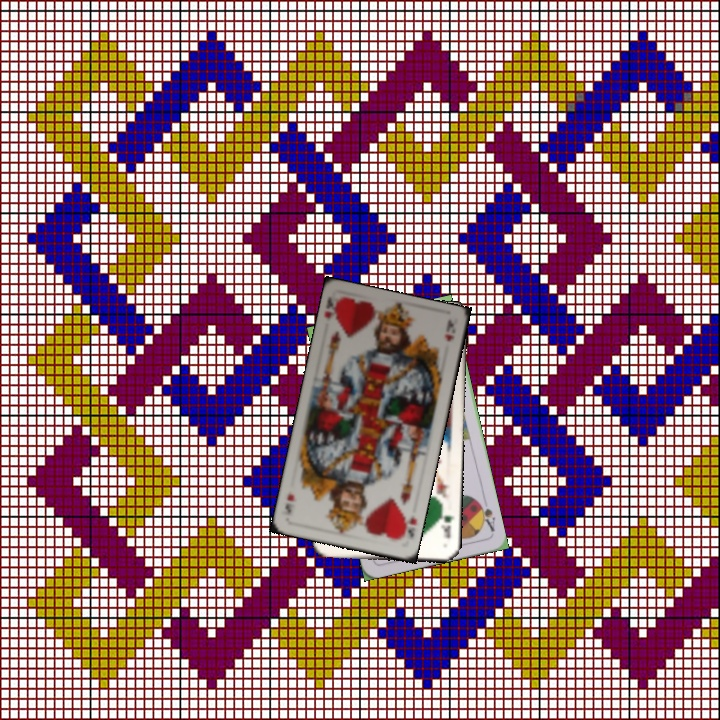GK: (437, 505, 457, 541)
HK: (320, 293, 340, 326), (400, 511, 419, 540)
SA: (473, 497, 498, 534)
